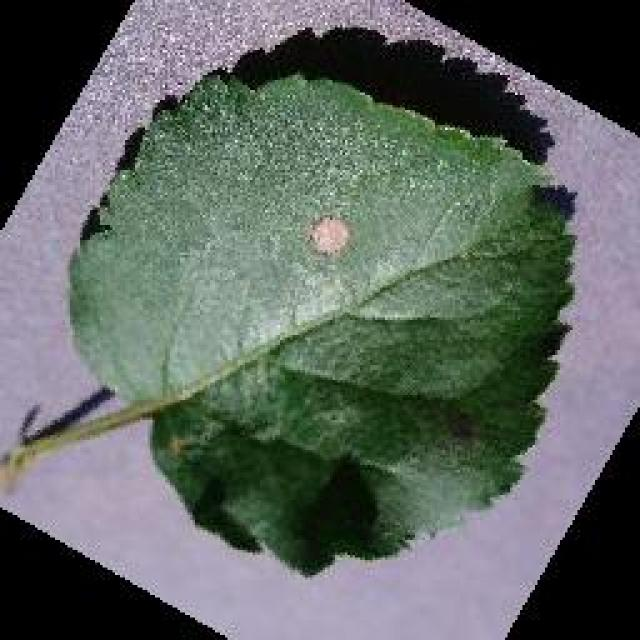Apple___Black_rot: (62, 68, 579, 581)
